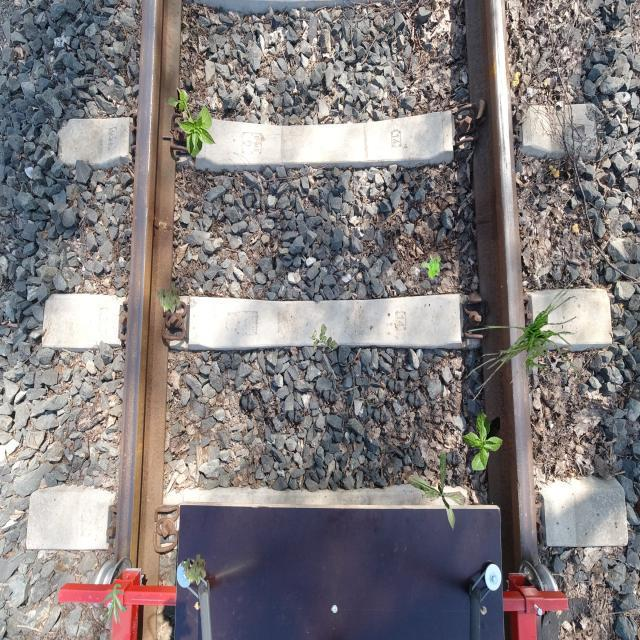Plant: (465, 279, 584, 402), (407, 450, 471, 534), (168, 87, 216, 158), (461, 411, 503, 471), (101, 583, 128, 625), (310, 324, 338, 354), (181, 554, 207, 586), (156, 282, 182, 314), (421, 254, 442, 279)
